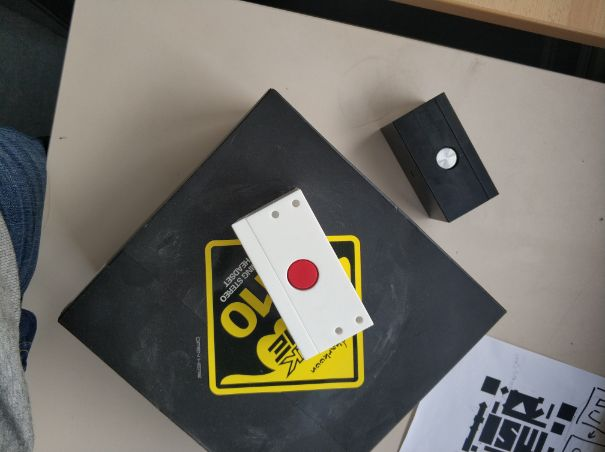black+black+silver: (378, 90, 505, 226)
white+white+red: (229, 183, 381, 365)
